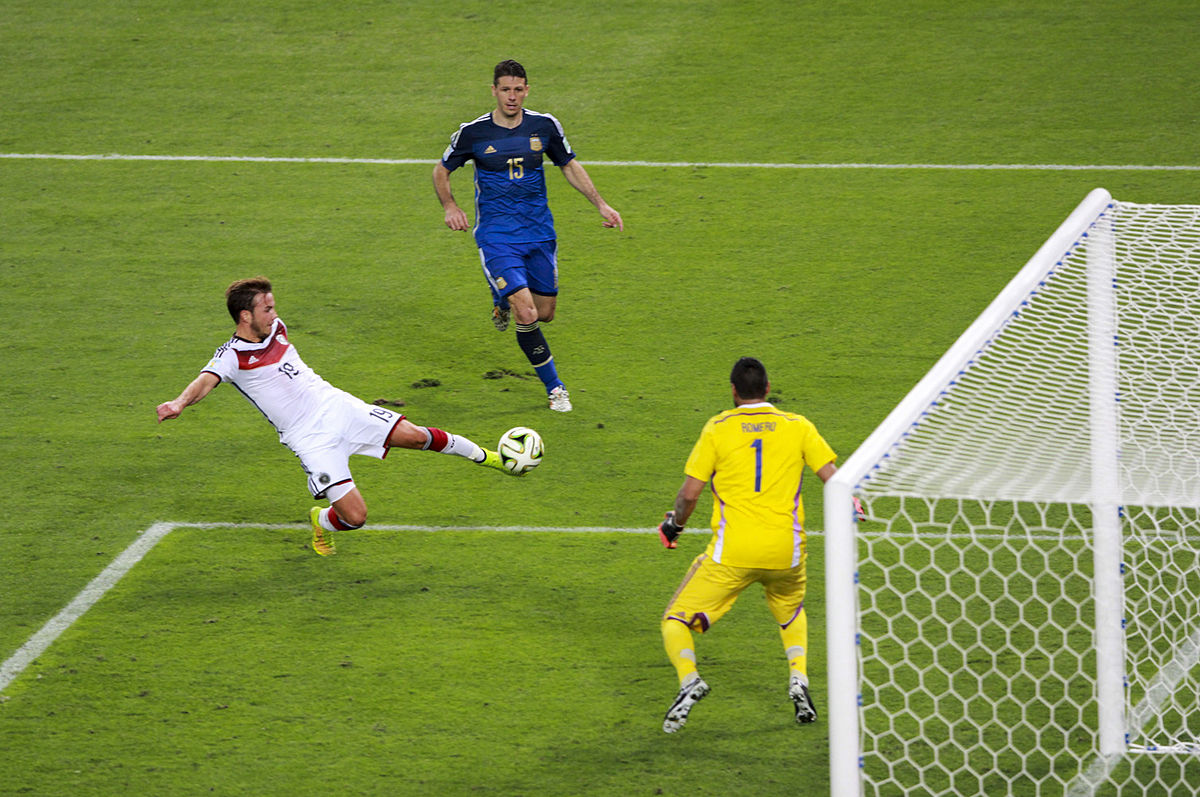football: (494, 423, 547, 477)
